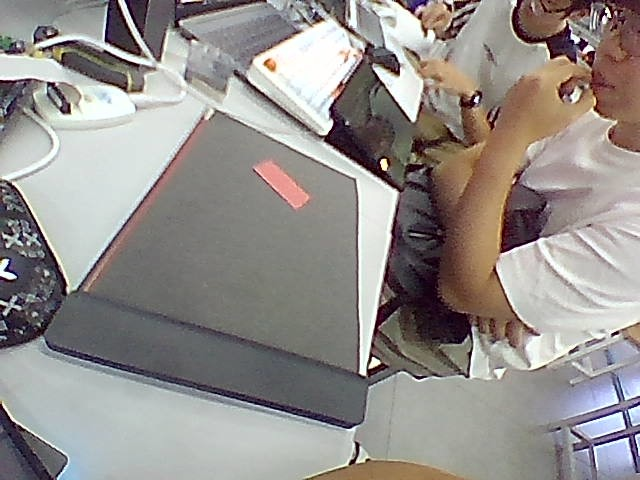card: (254, 160, 308, 209)
